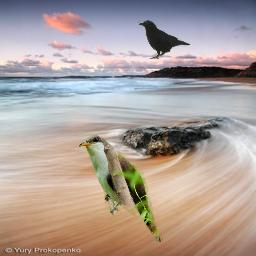Crow: (137, 19, 190, 59)
Cuckoo: (76, 134, 167, 243)
